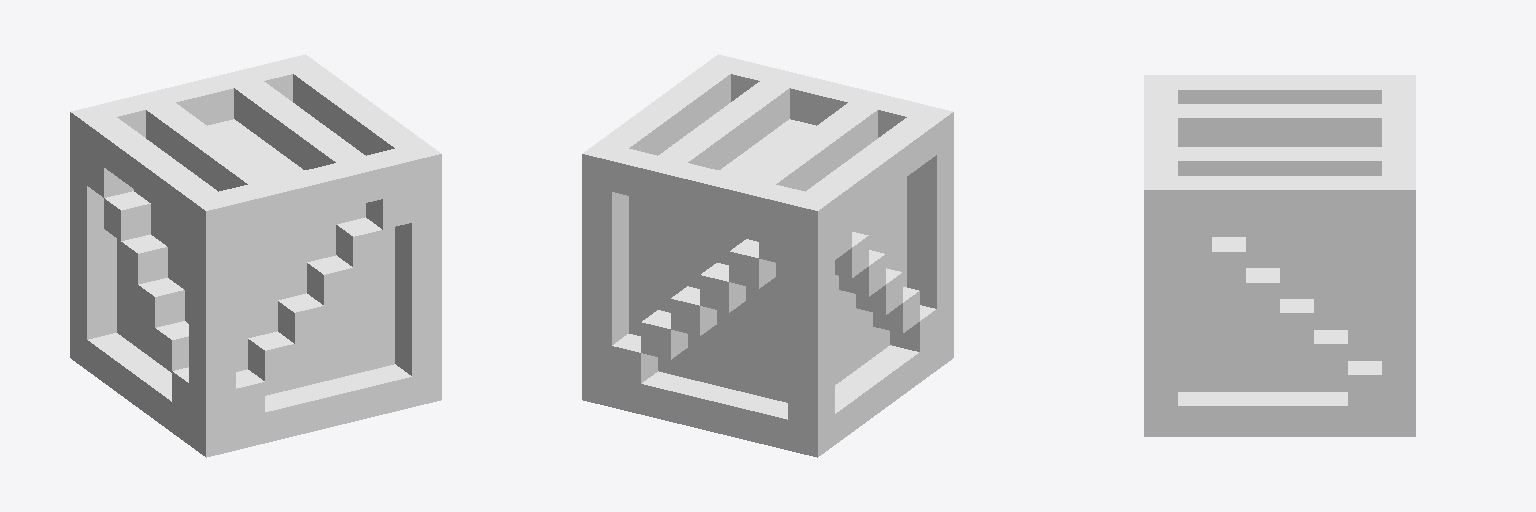
File: pick-ammo.obj
The picture shows the model from 3 angles: view 1: azimuth 30°, elevation 25°; view 2: azimuth 150°, elevation 25°; view 3: azimuth 270°, elevation 25°; orthographic projection.
Visible parts, largest first — view 1: object 1; view 2: object 1; view 3: object 1.
Boxes of the visible parts, x1,y1,x2,y2 form: object 1: [70, 54, 441, 457]; object 1: [582, 54, 953, 457]; object 1: [1144, 75, 1415, 436].
Bounding box in the file's own units: 0.8 × 0.8 × 0.8.